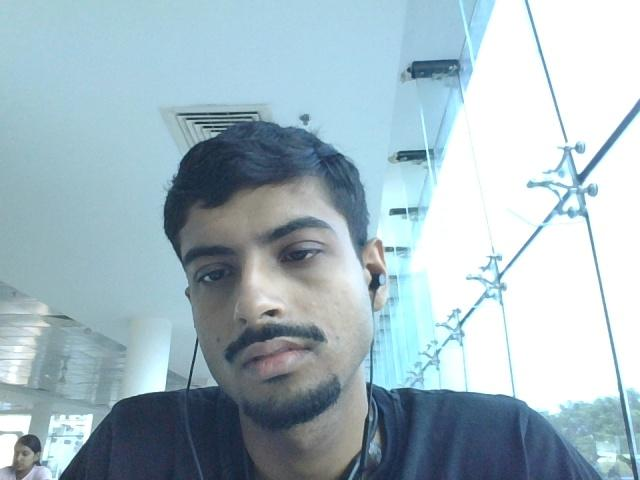confident: (146, 120, 419, 437)
